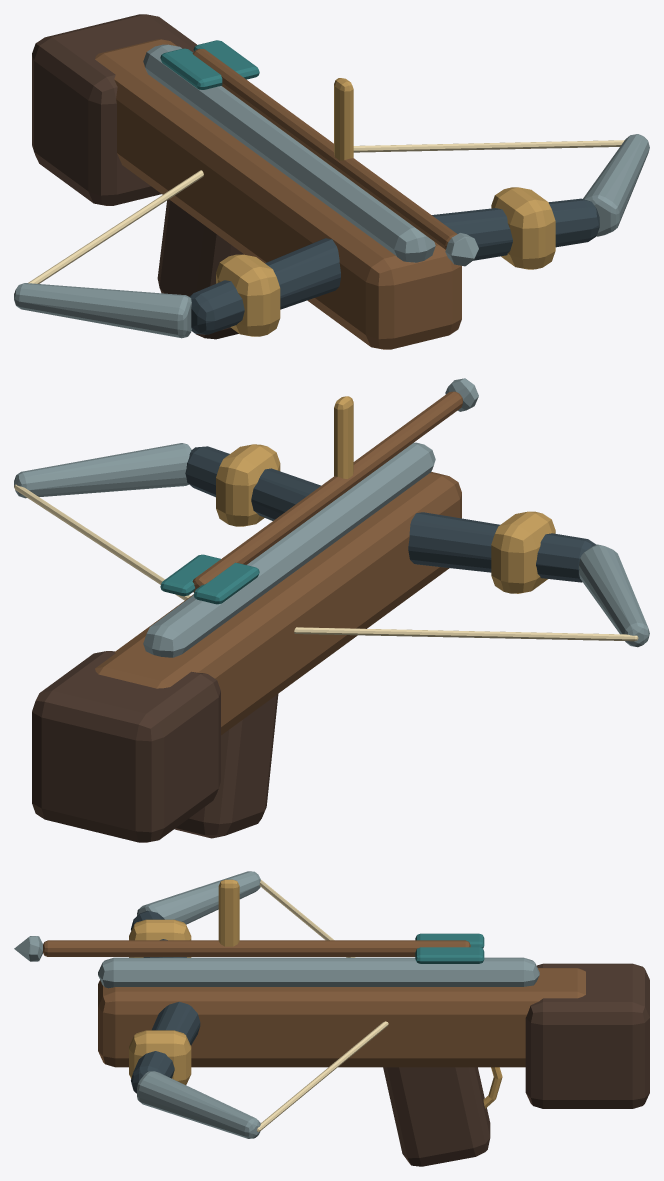
The model's file is weapon_crossbow.glb.
3 views of the same model, one above another, from view 1: azimuth 30°, elevation 25°; view 2: azimuth 150°, elevation 25°; view 3: azimuth 270°, elevation 25° (orthographic). The views are drawn at different scales.
Visible parts, largest first — view 1: WalnutStock.001, ShoulderButt.001, Rail.001, SteelBowInner.001, LimbBinding.001, LoadedBolt, BowString.001, Fletching.001, BoltHead; view 2: ShoulderButt.001, WalnutStock.001, Rail.001, SteelBowInner.001, LimbBinding.001, LoadedBolt, BowString.001, Fletching.001; view 3: WalnutStock.001, ShoulderButt.001, Rail.001, LoadedBolt, LimbBinding.001, SteelBowInner.001, Fletching.001, BowString.001, BoltHead.
Part boxes in pixels (bbox=[...]): WalnutStock.001: bbox=[95, 39, 461, 349]; ShoulderButt.001: bbox=[32, 14, 243, 339]; Rail.001: bbox=[14, 44, 649, 338]; SteelBowInner.001: bbox=[189, 198, 599, 334]; LimbBinding.001: bbox=[216, 78, 555, 336]; LoadedBolt: bbox=[192, 48, 457, 249]; BowString.001: bbox=[14, 140, 624, 293]; Fletching.001: bbox=[160, 40, 259, 89]; BoltHead: bbox=[445, 233, 478, 266]; ShoulderButt.001: bbox=[32, 651, 278, 842]; WalnutStock.001: bbox=[95, 472, 461, 735]; Rail.001: bbox=[14, 442, 649, 657]; SteelBowInner.001: bbox=[185, 446, 596, 582]; LimbBinding.001: bbox=[216, 396, 555, 593]; LoadedBolt: bbox=[192, 391, 462, 592]; BowString.001: bbox=[14, 484, 638, 641]; Fletching.001: bbox=[160, 554, 259, 604]; WalnutStock.001: bbox=[98, 968, 585, 1067]; ShoulderButt.001: bbox=[383, 963, 649, 1166]; Rail.001: bbox=[98, 871, 539, 1138]; LoadedBolt: bbox=[43, 940, 470, 956]; LimbBinding.001: bbox=[129, 879, 502, 1108]; SteelBowInner.001: bbox=[131, 910, 200, 1093]; Fletching.001: bbox=[415, 933, 484, 963]; BowString.001: bbox=[257, 879, 388, 1131]; BoltHead: bbox=[14, 936, 42, 961].
Size of the model in its own units: 0.8749 by 0.446 by 0.9219.
